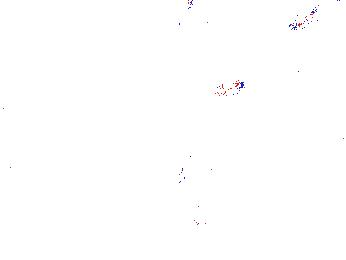red belly glassfish: (179, 76, 245, 105), (283, 65, 313, 80), (179, 1, 200, 19)
redtail glassfish: (172, 166, 208, 231), (285, 1, 346, 33)
siberian prawn: (30, 221, 110, 255)
